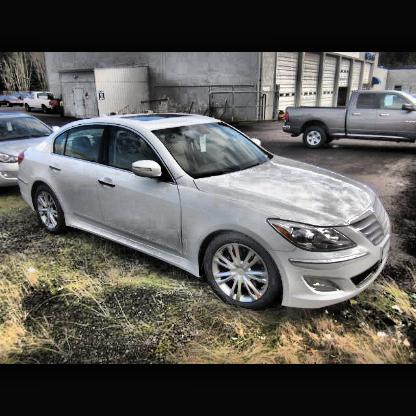Hyundai Genesis Sedan 2012: (14, 111, 395, 315)
